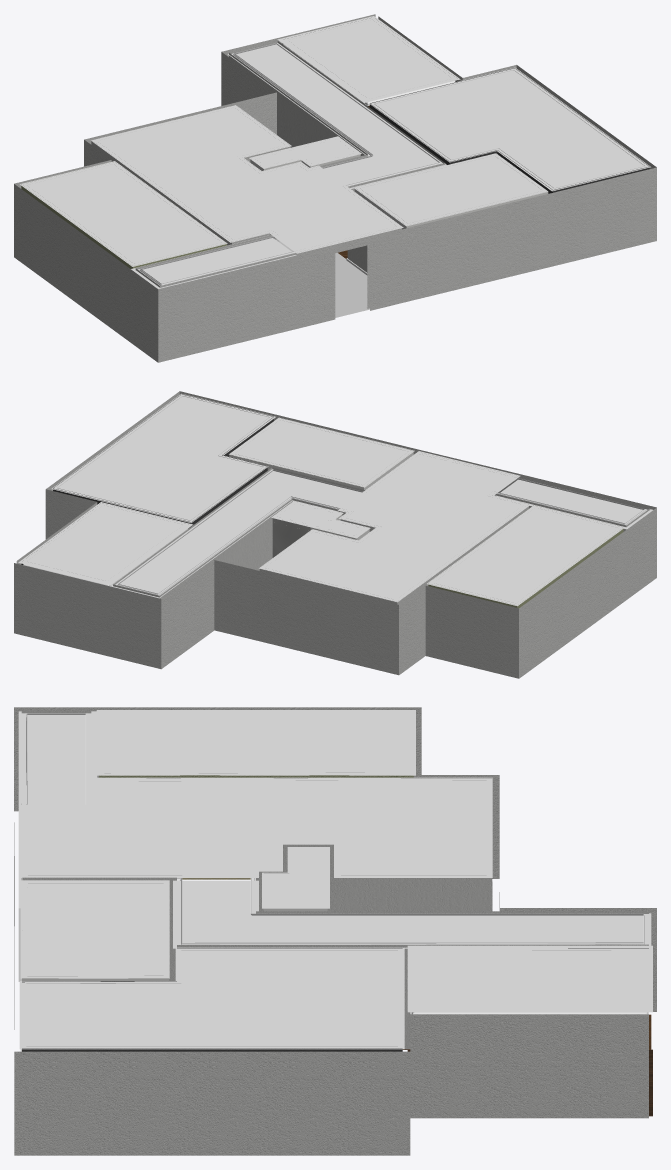
Rendered from House.v04.fbx.
The picture shows the model from 3 angles, top to bottom: view 1: azimuth 30°, elevation 25°; view 2: azimuth 150°, elevation 25°; view 3: azimuth 270°, elevation 25°; orthographic projection. The views are drawn at different scales.
Parts seen in each view (by area): view 1: Outside, Living Room Ceiling, Garage Ceiling, Kitchen Ceiling, Hall Ceiling, Office Ceiling, Bathroom Ceiling, Living Room Walls, Stairs Ceiling, Living Room Cornice Ceiling, Closet Ceiling, Living Room Floor (+4 smaller); view 2: Outside, Living Room Ceiling, Garage Ceiling, Kitchen Ceiling, Hall Ceiling, Office Ceiling, Bathroom Ceiling, Living Room Walls, Stairs Ceiling, Living Room Cornice Ceiling, Closet Ceiling, Garage Walls (+4 smaller); view 3: Outside, Living Room Ceiling, Garage Ceiling, Kitchen Ceiling, Hall Ceiling, Office Ceiling, Bathroom Ceiling, Living Room Walls, Stairs Ceiling, Living Room Cornice Ceiling, Closet Ceiling, Garage Walls (+3 smaller).
Boxes of the visible parts, bbox=[...] form: Outside: bbox=[14, 14, 656, 362]; Living Room Ceiling: bbox=[91, 105, 403, 253]; Garage Ceiling: bbox=[369, 67, 650, 191]; Kitchen Ceiling: bbox=[20, 161, 227, 266]; Hall Ceiling: bbox=[227, 42, 446, 188]; Office Ceiling: bbox=[277, 16, 460, 102]; Bathroom Ceiling: bbox=[354, 153, 548, 226]; Living Room Walls: bbox=[91, 41, 445, 308]; Stairs Ceiling: bbox=[131, 235, 296, 288]; Living Room Cornice Ceiling: bbox=[139, 43, 440, 285]; Closet Ceiling: bbox=[249, 136, 361, 168]; Living Room Floor: bbox=[278, 241, 369, 317]; Outside: bbox=[14, 391, 656, 678]; Living Room Ceiling: bbox=[259, 451, 530, 602]; Garage Ceiling: bbox=[51, 393, 275, 522]; Kitchen Ceiling: bbox=[427, 505, 625, 606]; Hall Ceiling: bbox=[111, 469, 361, 598]; Office Ceiling: bbox=[18, 502, 193, 585]; Bathroom Ceiling: bbox=[229, 417, 414, 487]; Living Room Walls: bbox=[113, 467, 649, 604]; Stairs Ceiling: bbox=[496, 479, 652, 529]; Living Room Cornice Ceiling: bbox=[117, 469, 645, 595]; Closet Ceiling: bbox=[271, 501, 370, 538]; Garage Walls: bbox=[53, 394, 273, 528]; Outside: bbox=[14, 707, 656, 1155]; Living Room Ceiling: bbox=[18, 777, 492, 877]; Garage Ceiling: bbox=[19, 948, 404, 1049]; Kitchen Ceiling: bbox=[96, 710, 415, 775]; Hall Ceiling: bbox=[173, 880, 651, 948]; Office Ceiling: bbox=[407, 945, 652, 1012]; Bathroom Ceiling: bbox=[20, 880, 169, 978]; Living Room Walls: bbox=[21, 710, 648, 1049]; Stairs Ceiling: bbox=[18, 711, 97, 804]; Living Room Cornice Ceiling: bbox=[26, 713, 644, 944]; Closet Ceiling: bbox=[262, 847, 329, 908]; Garage Walls: bbox=[22, 948, 402, 1051].
Size of the model in its own units: 2664 by 379 by 2104.
